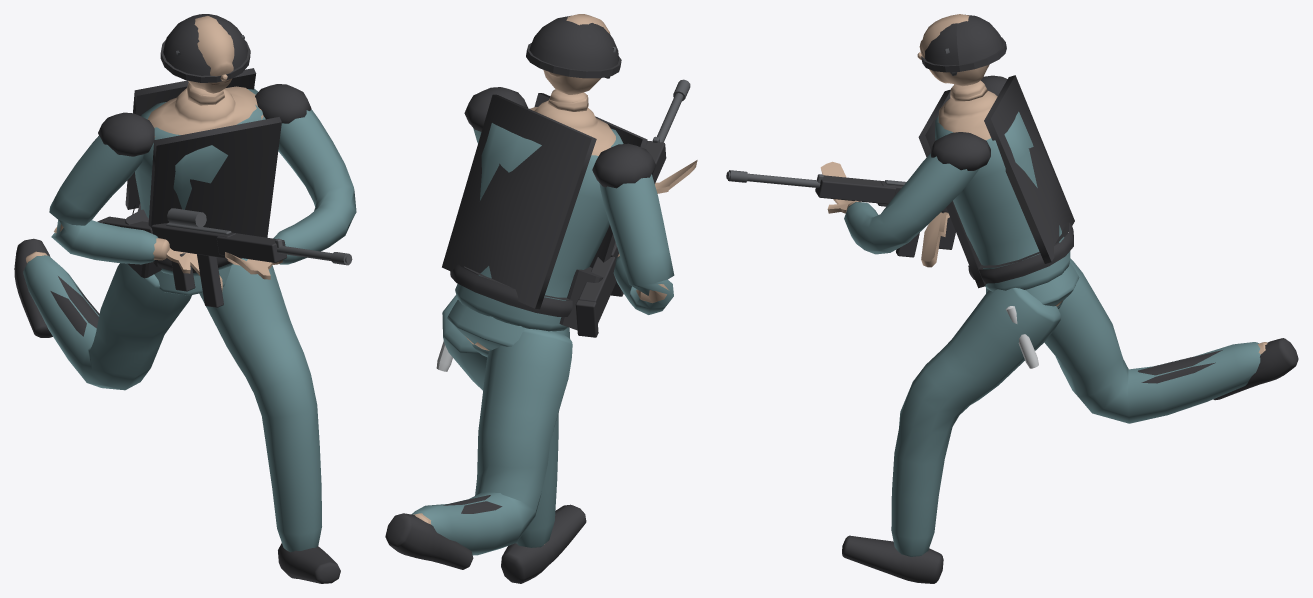
Rendered from tactical-shooter-hill-town-breacher-running-6fd9182e__27577.glb.
The picture shows the model from 3 angles, left to right: view 1: azimuth 30°, elevation 25°; view 2: azimuth 150°, elevation 25°; view 3: azimuth 270°, elevation 25°; orthographic projection. The views are drawn at different scales.
Visible parts, largest first — view 1: breacher-running; view 2: breacher-running; view 3: breacher-running.
Boxes of the visible parts, x1,y1,x2,y2 form: breacher-running: (14,14,356,583); breacher-running: (385,14,697,583); breacher-running: (726,14,1298,583).
Bounding box in the file's own units: 0.7198 × 1.64 × 1.6.
